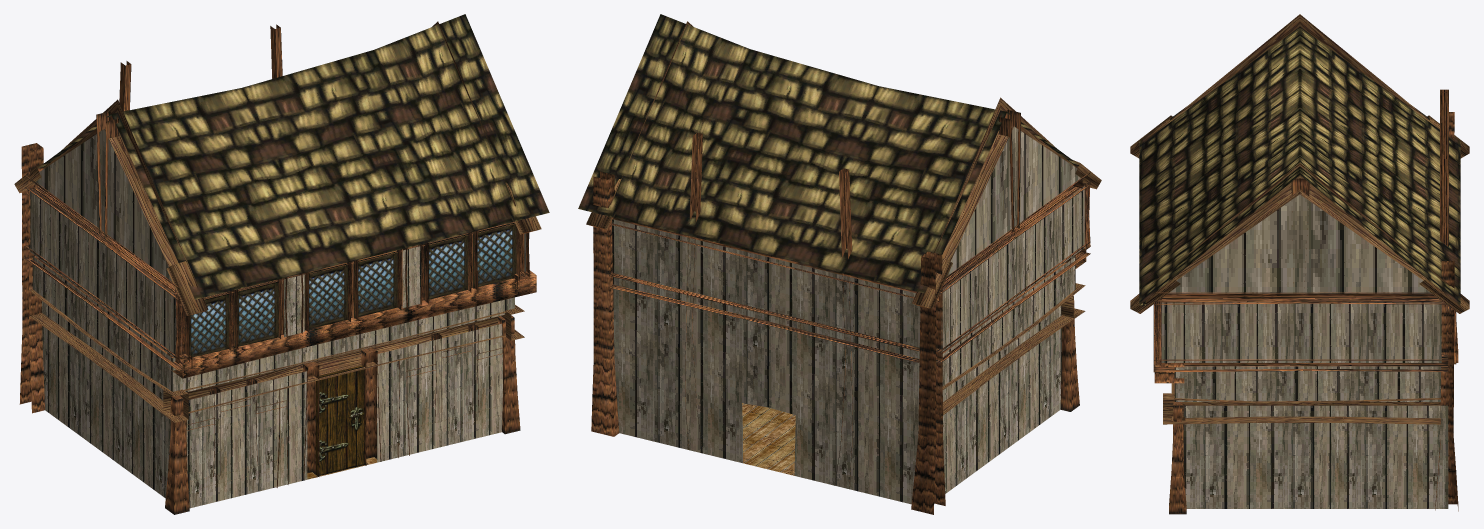
The model's file is LAKETOWN_GENHOUSE2_PS_GH2_MAINSHELL31__GX.fbx.
The picture shows the model from 3 angles, left to right: view 1: azimuth 30°, elevation 25°; view 2: azimuth 150°, elevation 25°; view 3: azimuth 270°, elevation 25°; orthographic projection. The views are drawn at different scales.
Visible parts, largest first — view 1: LAKETOWN_GENHOUSE2_PS_GH2_MAINSHELL31__GX; view 2: LAKETOWN_GENHOUSE2_PS_GH2_MAINSHELL31__GX; view 3: LAKETOWN_GENHOUSE2_PS_GH2_MAINSHELL31__GX.
Boxes of the visible parts, x1=… form: LAKETOWN_GENHOUSE2_PS_GH2_MAINSHELL31__GX: x1=14, y1=14, x2=549, y2=514; LAKETOWN_GENHOUSE2_PS_GH2_MAINSHELL31__GX: x1=578, y1=14, x2=1101, y2=514; LAKETOWN_GENHOUSE2_PS_GH2_MAINSHELL31__GX: x1=1130, y1=14, x2=1469, y2=514.
Bounding box in the file's own units: 88624 × 84572 × 75067.
Materials: 12 (12 with a texture image).
